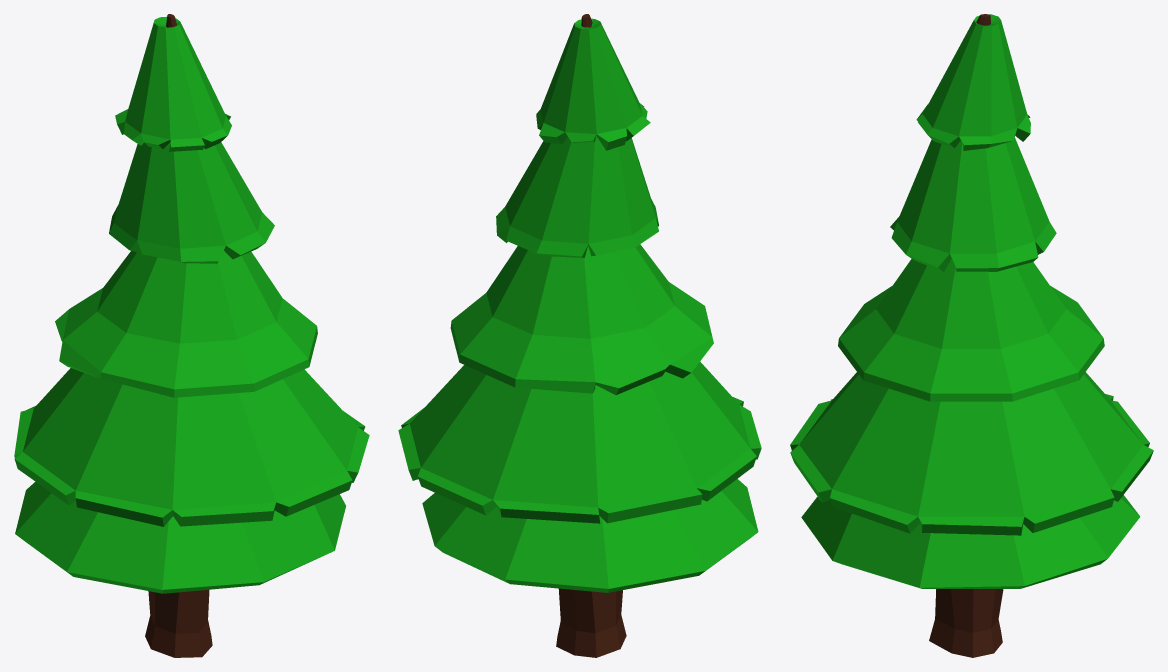
Rendered from pineTree6.fbx.
The picture shows the model from 3 angles, left to right: view 1: azimuth 30°, elevation 25°; view 2: azimuth 150°, elevation 25°; view 3: azimuth 270°, elevation 25°; orthographic projection.
Parts seen in each view (by area): view 1: Circle, Cylinder; view 2: Circle, Cylinder; view 3: Circle, Cylinder.
Boxes of the visible parts, box(x1,y1,x2,y2) form: Circle: box(14, 16, 369, 593); Cylinder: box(145, 14, 212, 657); Circle: box(398, 18, 761, 592); Cylinder: box(556, 14, 626, 657); Circle: box(790, 14, 1153, 588); Cylinder: box(929, 14, 1003, 657).
Bounding box in the file's own units: 593 × 1164 × 613.
